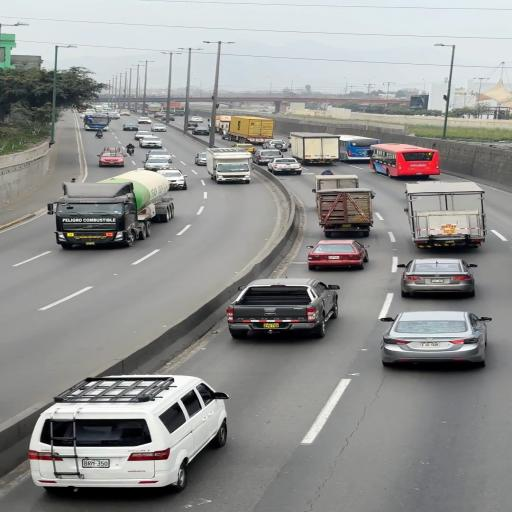auto: (27, 404, 174, 490), (227, 278, 338, 335), (378, 310, 487, 366), (398, 258, 480, 297), (305, 239, 370, 271)
bus: (371, 143, 440, 180), (336, 135, 380, 163)
camion: (53, 169, 176, 244), (401, 182, 486, 248), (312, 182, 374, 235), (204, 147, 254, 185), (288, 131, 342, 166), (218, 116, 273, 144), (314, 175, 359, 193), (84, 113, 110, 131), (215, 115, 233, 135), (147, 104, 162, 114)
moto: (97, 135, 108, 145), (125, 144, 135, 154)
